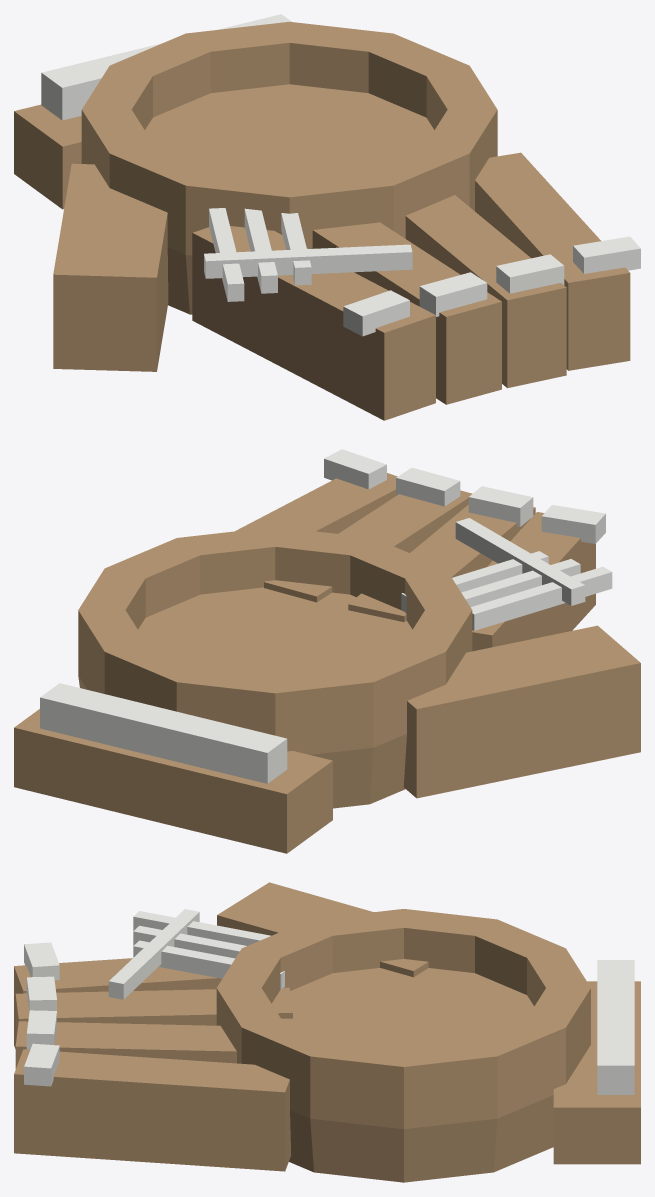
Rendered from baseball-park-and-batting-cages-fielding-glove-768f6a50__33768.glb.
3 renders of one model, top to bottom at view 1: azimuth 30°, elevation 25°; view 2: azimuth 150°, elevation 25°; view 3: azimuth 270°, elevation 25°, orthographic. The views are drawn at different scales.
Parts seen in each view (by area): view 1: fielding-glove; view 2: fielding-glove; view 3: fielding-glove.
Boxes of the visible parts, x1,y1,x2,y2 form: fielding-glove: (14,14,640,420); fielding-glove: (14,449,640,853); fielding-glove: (14,882,640,1182).
Bounding box in the file's own units: 0.4092 × 0.105 × 0.5024.
